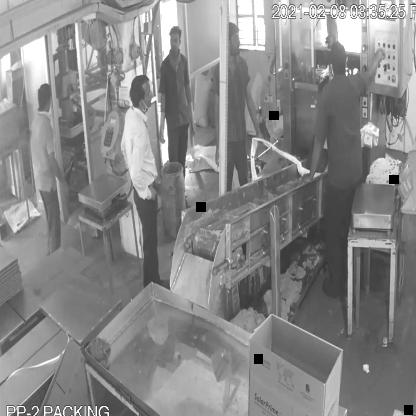glove: (184, 87, 201, 140), (156, 106, 172, 150)
no_glove: (40, 132, 72, 200), (240, 67, 268, 140), (133, 132, 155, 206), (360, 45, 398, 87), (297, 124, 322, 185)
